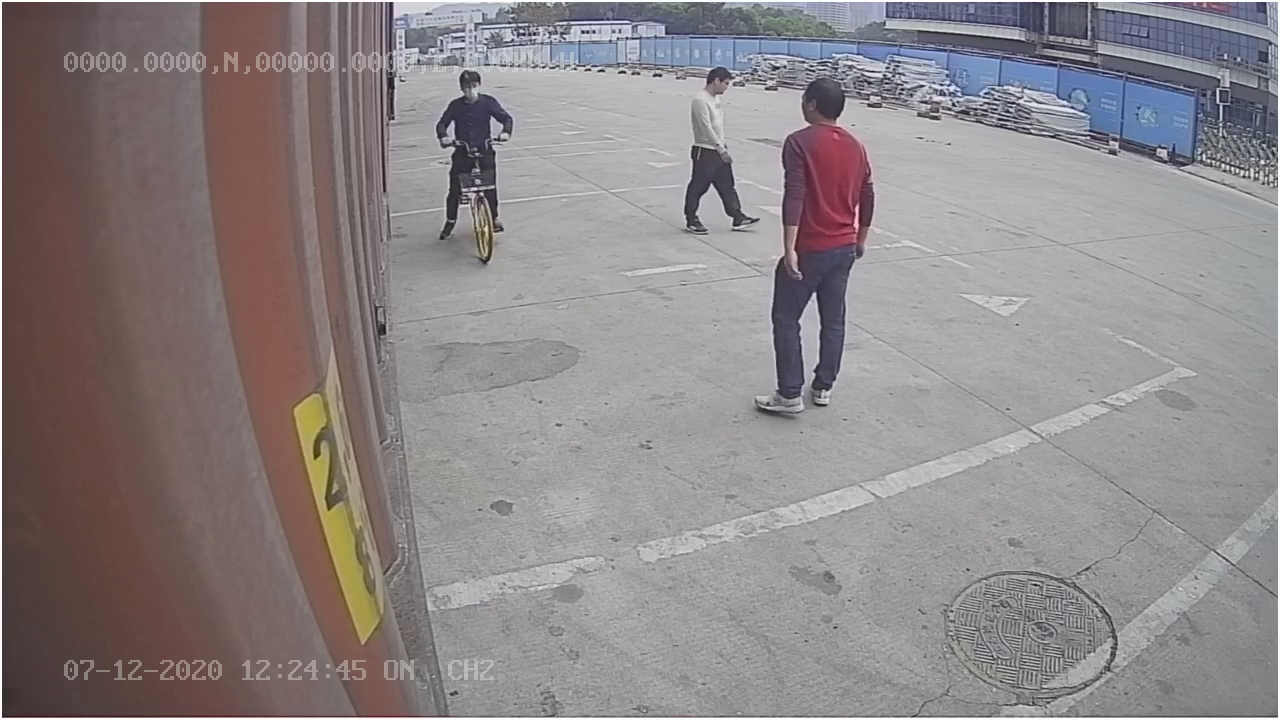person: (755, 76, 879, 414), (679, 65, 761, 234)
